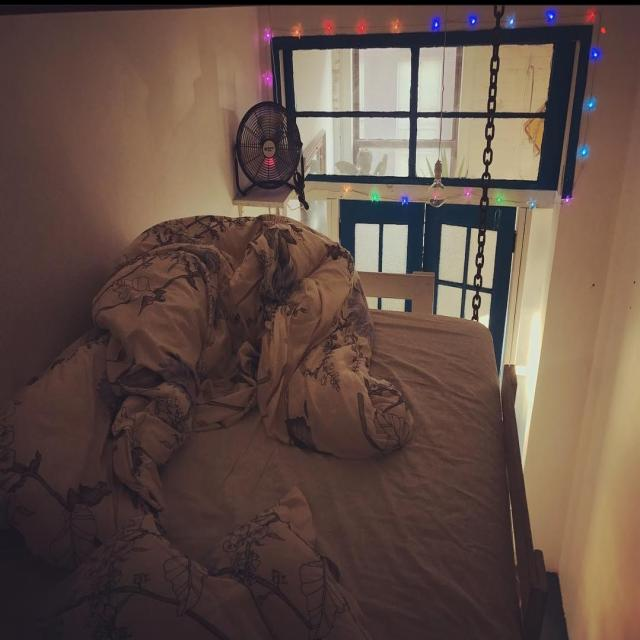bed: (18, 206, 513, 640)
